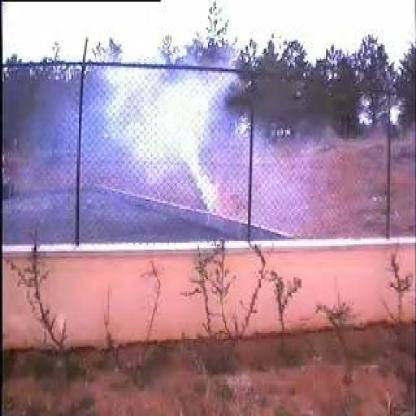-: (76, 61, 268, 230)
